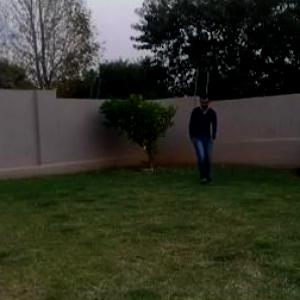follow: (187, 86, 221, 192)
